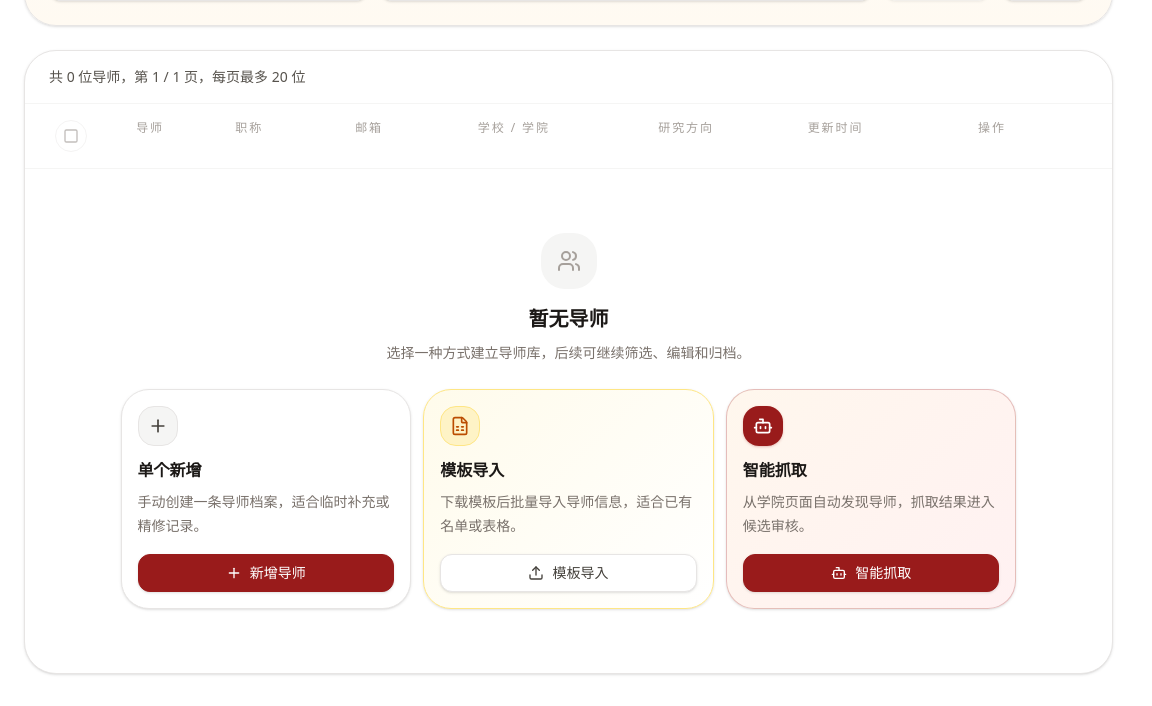
Test case: ProfessorsPage crawler job entry › does not create a crawl job without a selected llm profile
(page scrolled)
Click the button "智能抓取".
click(871, 573)  # box 743,554 -> 1000,592
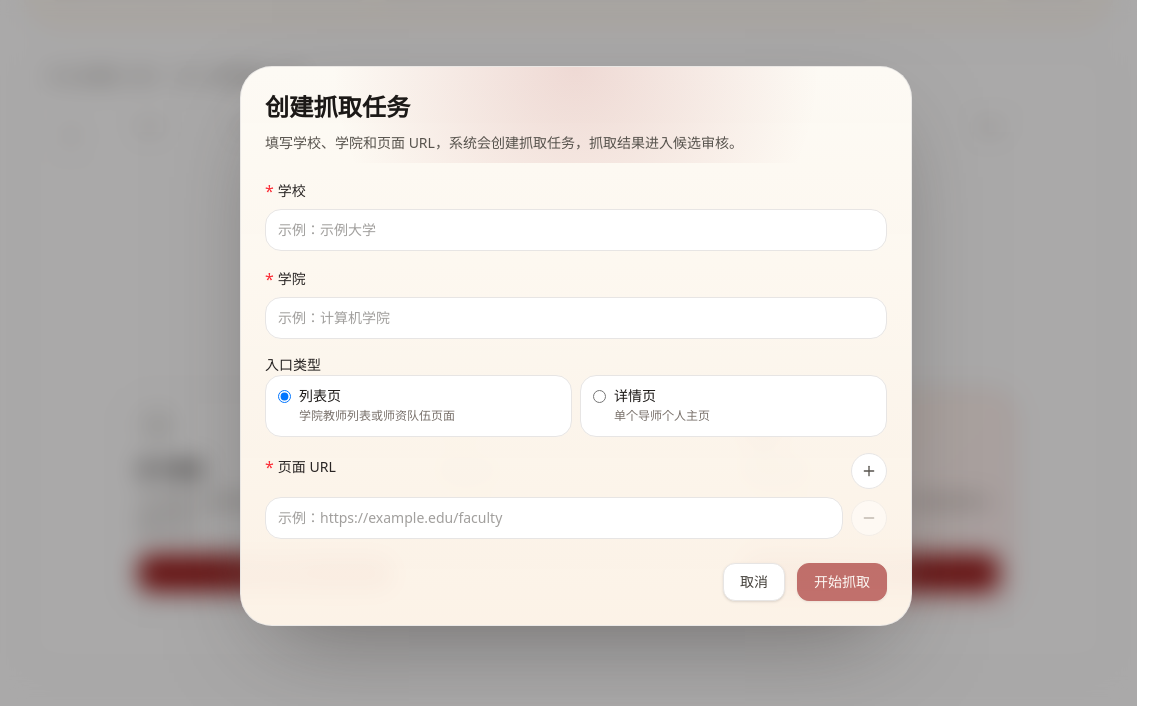
Type "示例大学" into the field labelled "学校".
click(576, 230); type("示例大学")  # box 265,209 -> 887,251
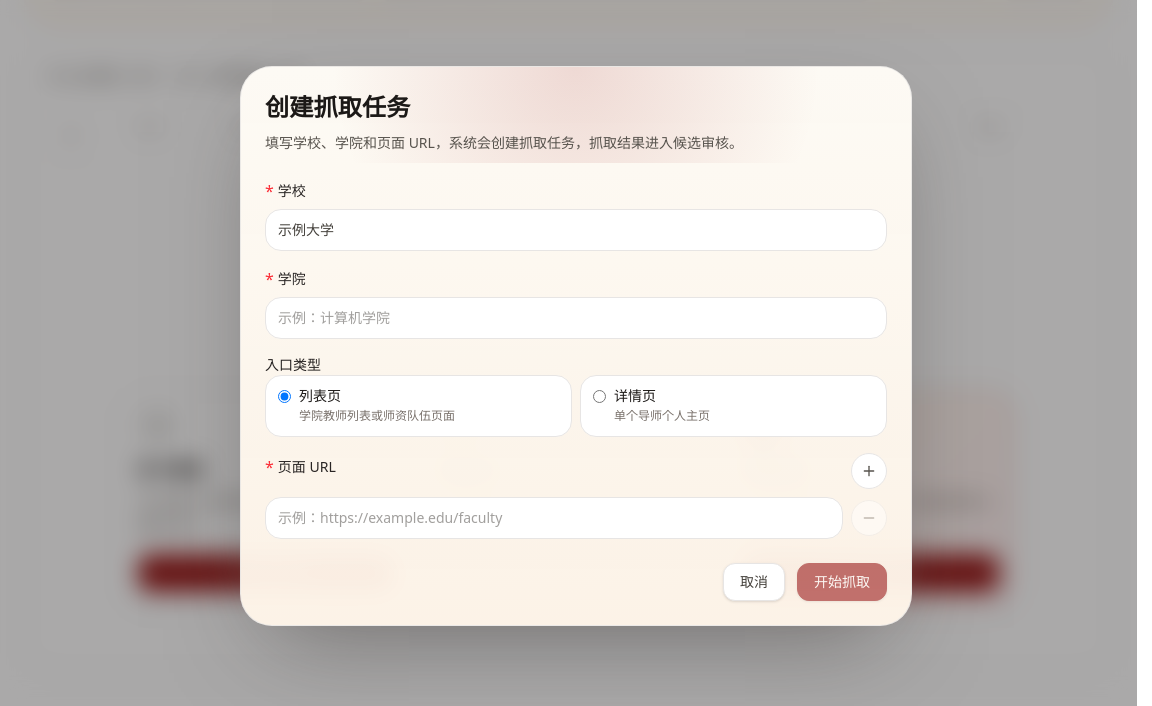
Type "计算机学院" into the field labelled "学院".
click(576, 318); type("计算机学院")  # box 265,297 -> 887,339
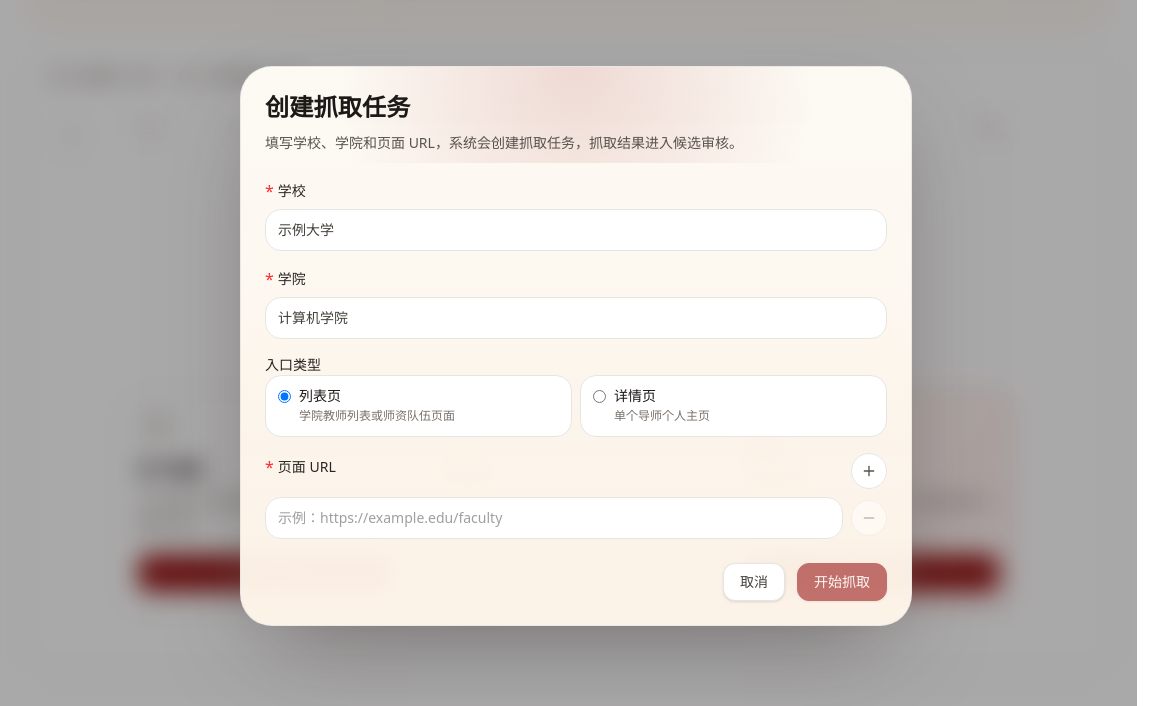
Type "https://example.edu/faculty" into the field named "页面 URL".
click(554, 518); type("https://example.edu/faculty")  # box 265,497 -> 843,539
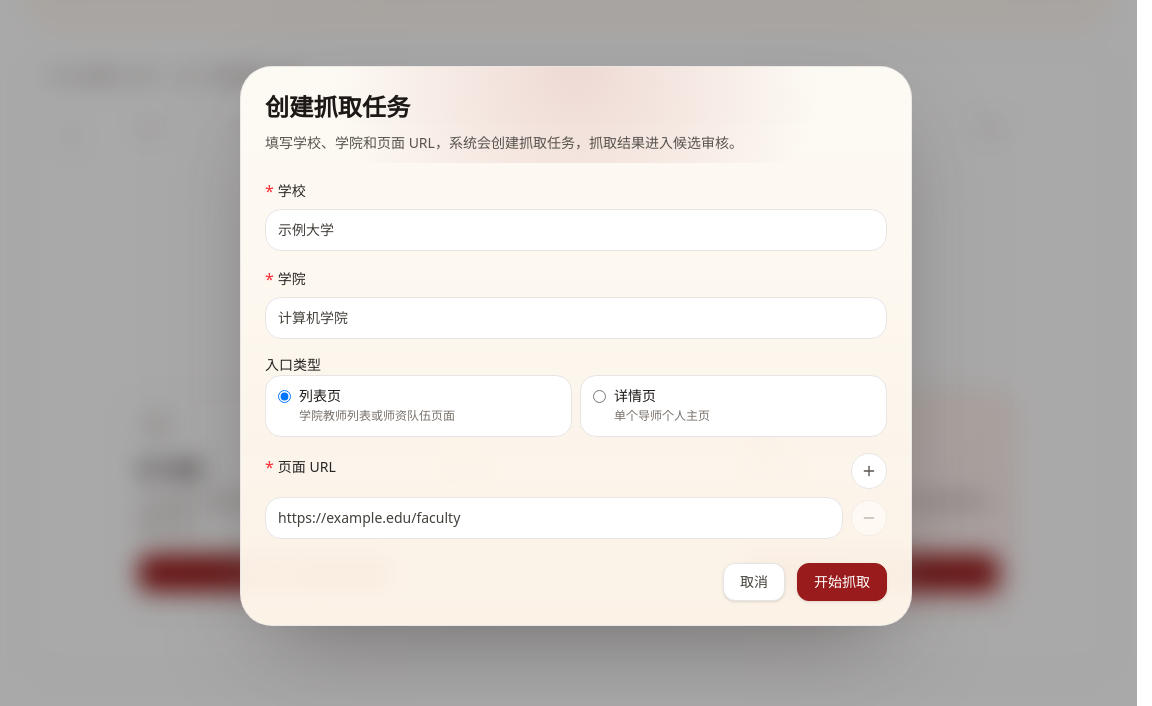
Click the button "开始抓取".
click(842, 582)  # box 797,563 -> 887,601
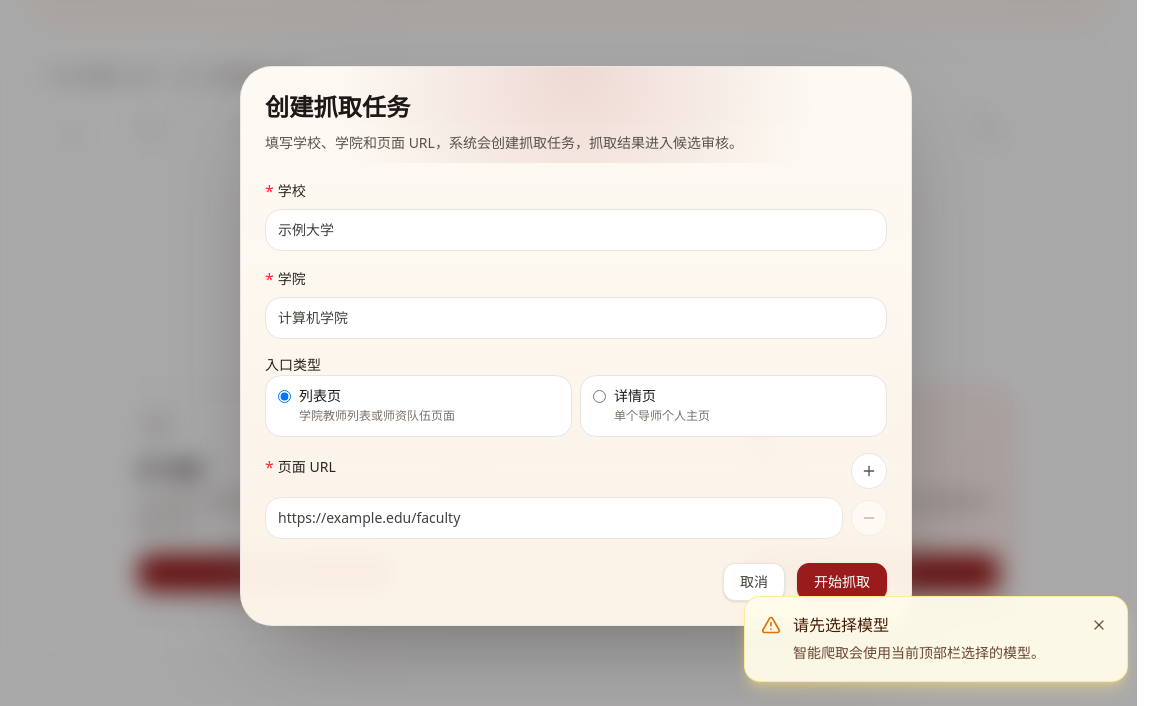
Now the text "请先选择模型" is shown, box 793,613 -> 889,637
